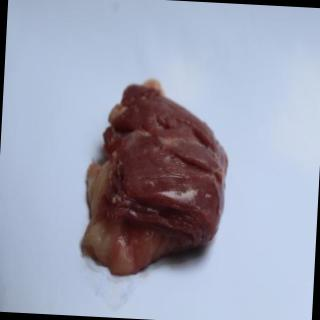Daging Sapi: (83, 79, 234, 280)
